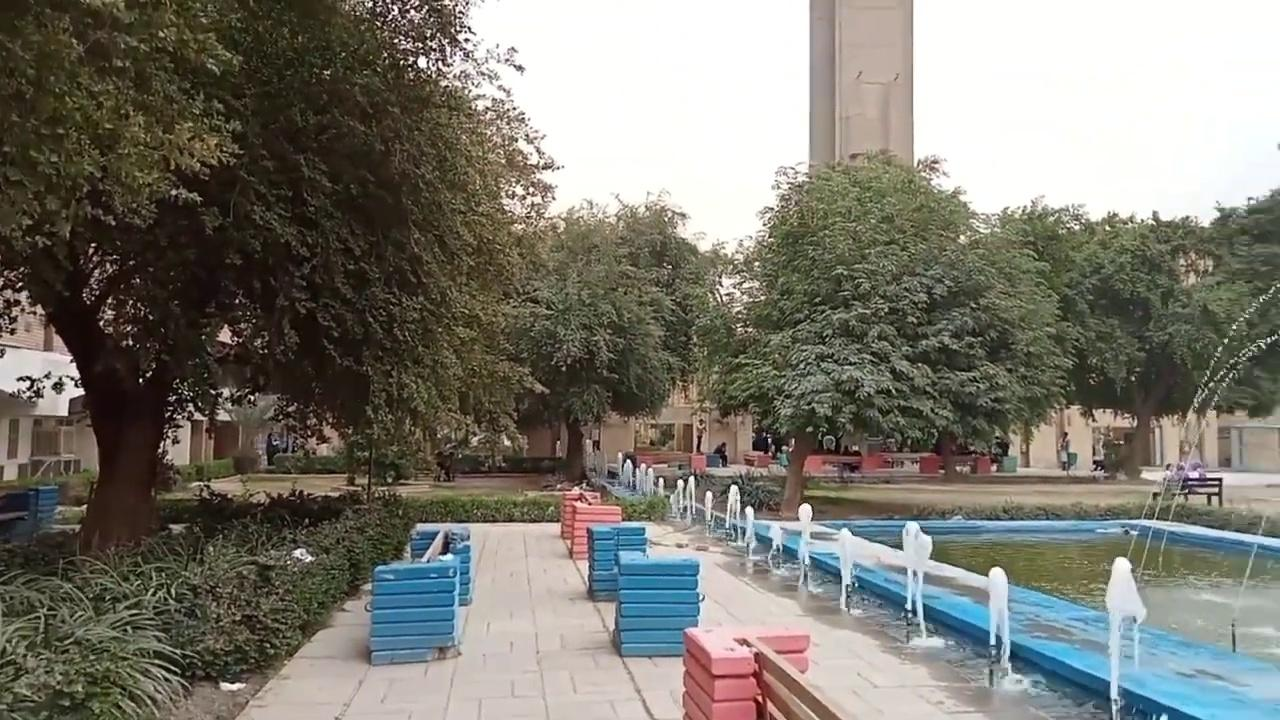fountain: (590, 452, 1278, 718), (1102, 554, 1147, 718)
person: (1059, 431, 1071, 475), (265, 431, 280, 466), (713, 441, 728, 467), (695, 418, 705, 453)
tree: (0, 0, 562, 554), (707, 146, 1072, 518), (999, 196, 1277, 480), (501, 194, 697, 488), (1150, 275, 1278, 473)
